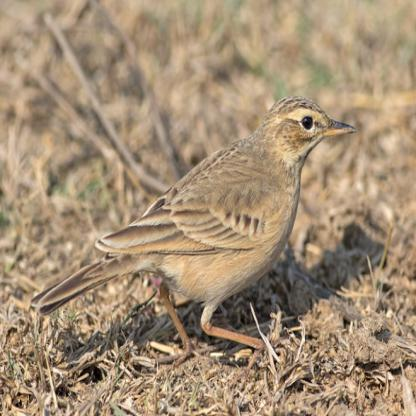Burung: (32, 93, 354, 364)
